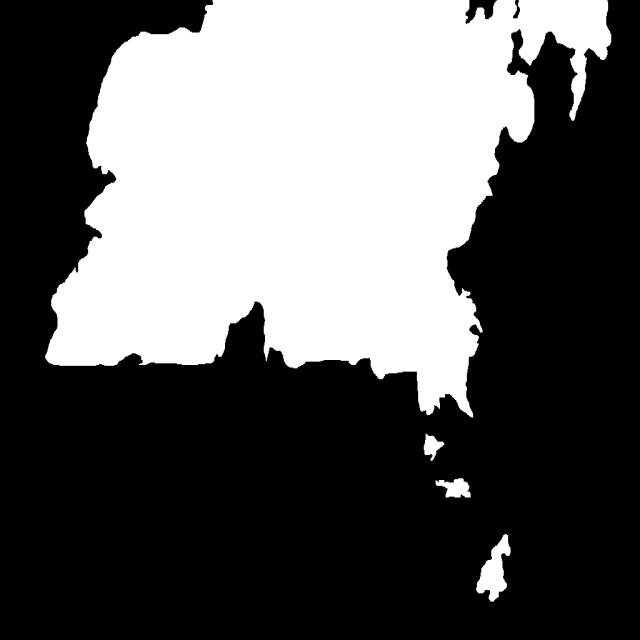fire: (26, 24, 582, 618)
